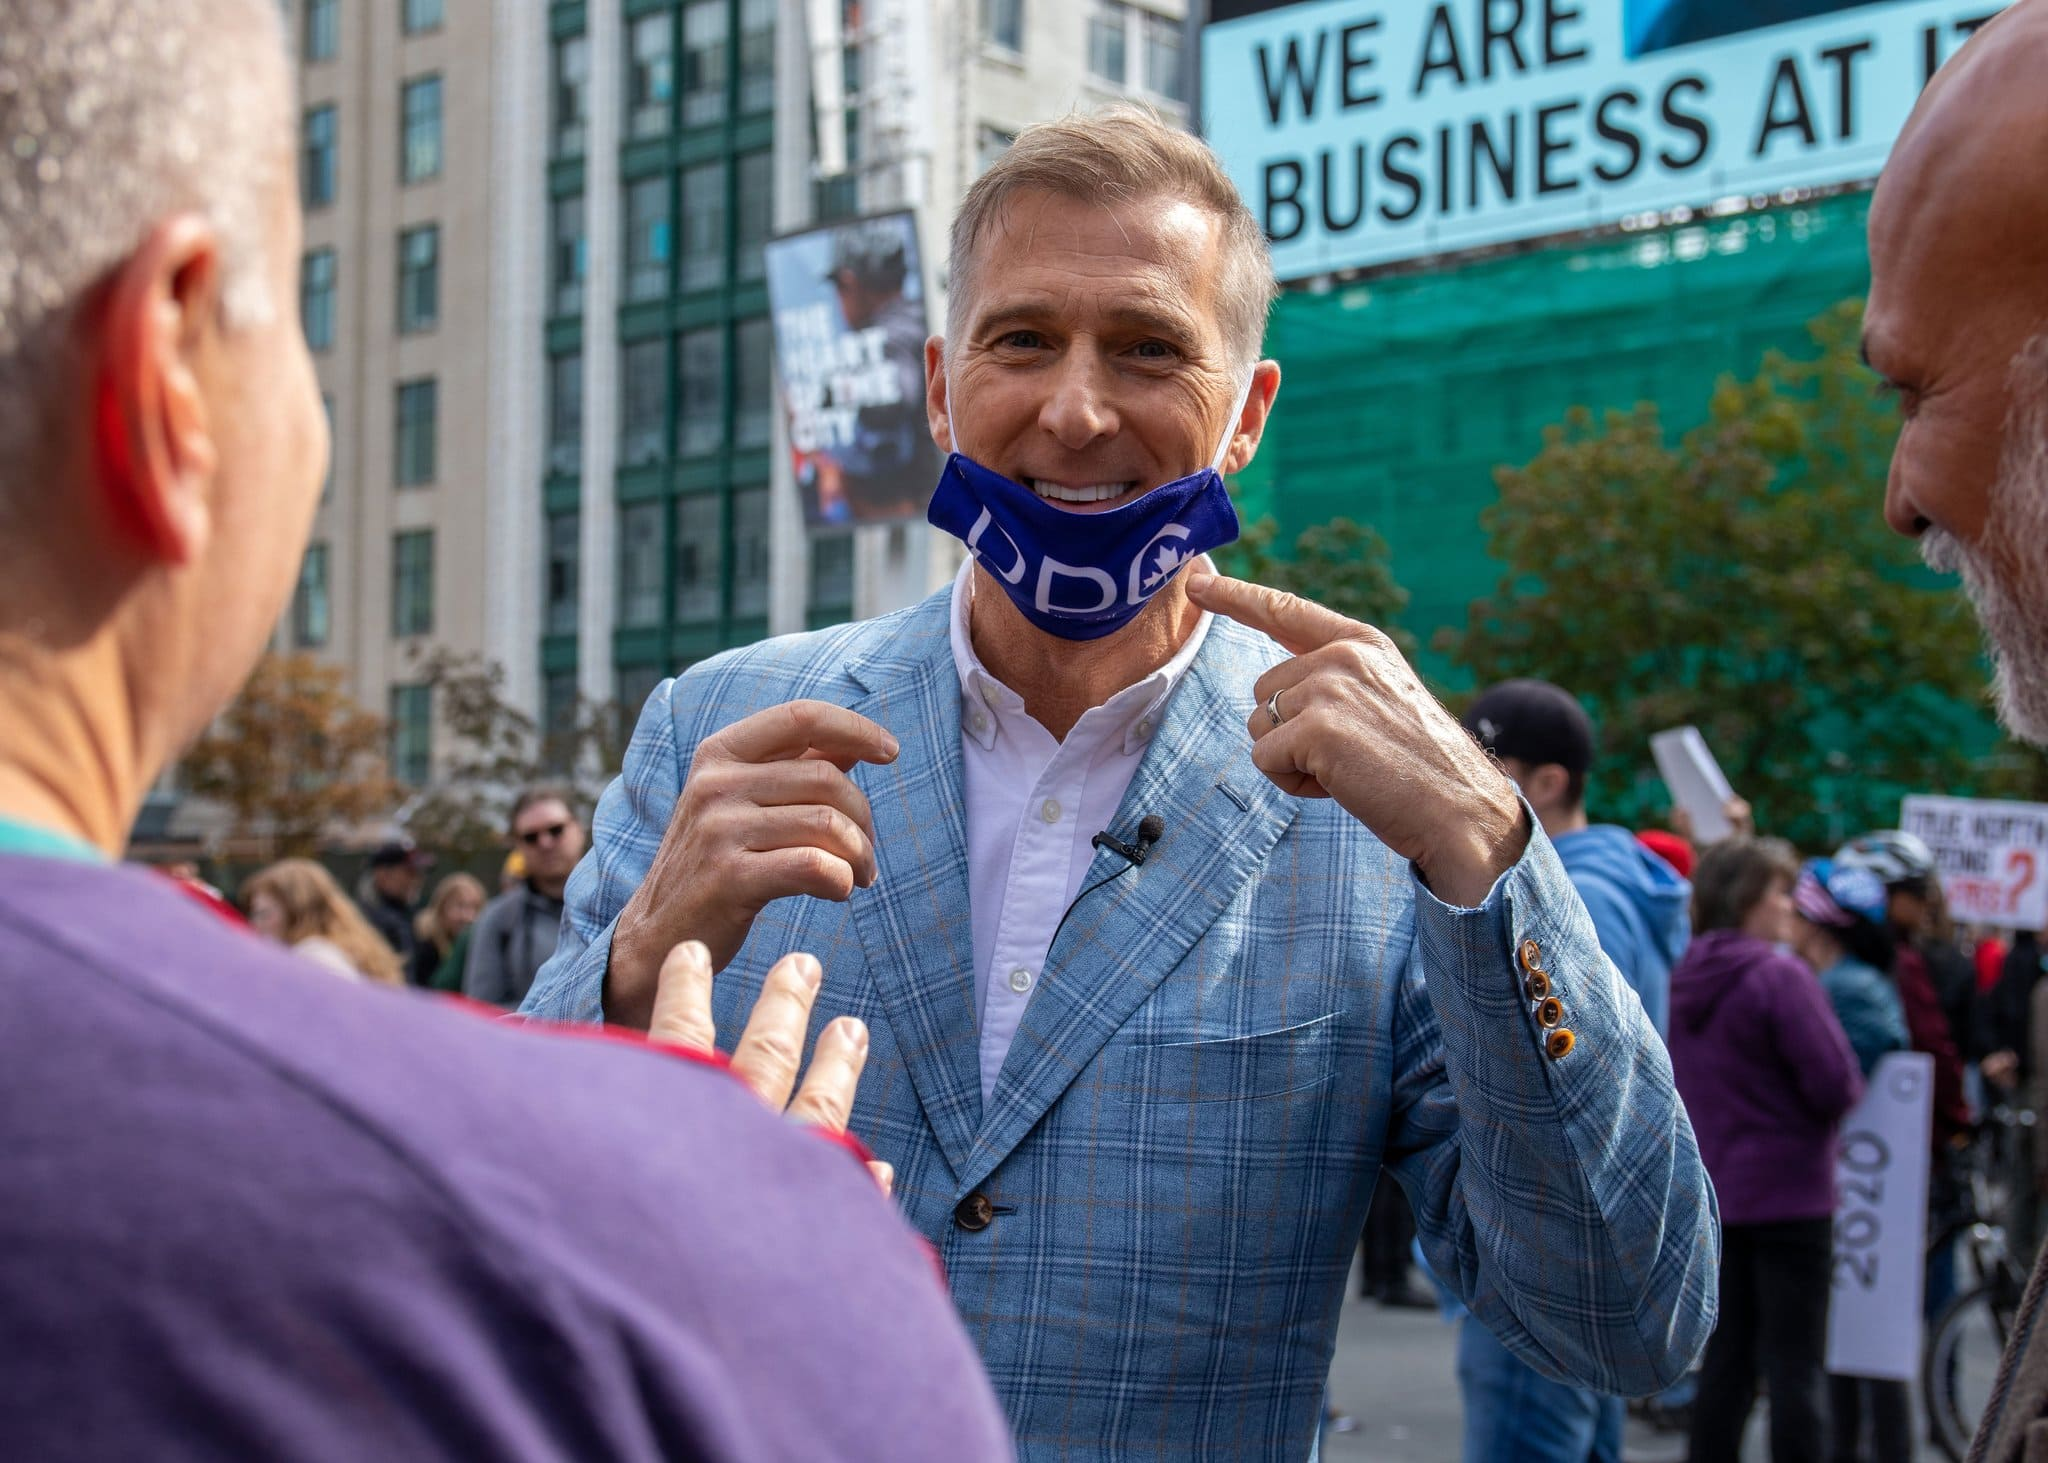with_incorrect_mask: (953, 187, 1227, 620)
